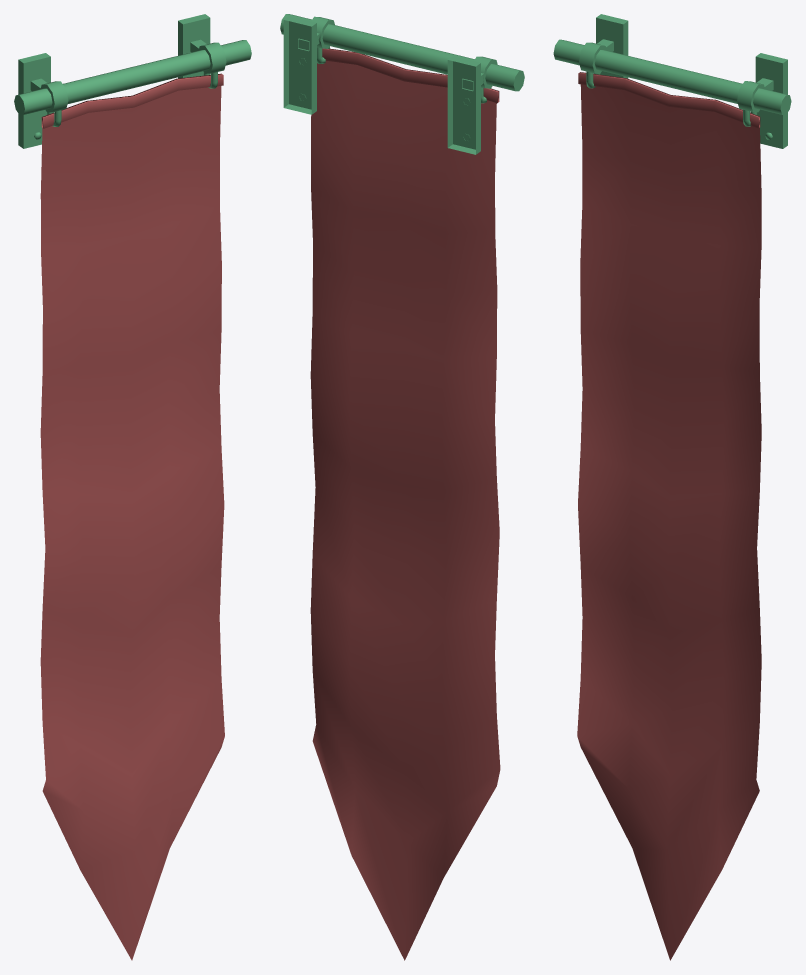
File: SM_Fix_drap_02.fbx
The picture shows the model from 3 angles, left to right: view 1: azimuth 30°, elevation 25°; view 2: azimuth 150°, elevation 25°; view 3: azimuth 330°, elevation 25°; orthographic projection. The views are drawn at different scales.
Visible parts, largest first — view 1: SM_Drap_02, SM_Fix_drap_02; view 2: SM_Drap_02, SM_Fix_drap_02; view 3: SM_Drap_02, SM_Fix_drap_02.
Boxes of the visible parts, <box> form: SM_Drap_02: <box>40,73,224,960</box>; SM_Fix_drap_02: <box>14,14,251,148</box>; SM_Drap_02: <box>310,48,500,960</box>; SM_Fix_drap_02: <box>280,14,524,154</box>; SM_Drap_02: <box>577,72,761,960</box>; SM_Fix_drap_02: <box>553,14,791,148</box>.
Bounding box in the file's own units: 1.61 × 6.15 × 0.3595.
